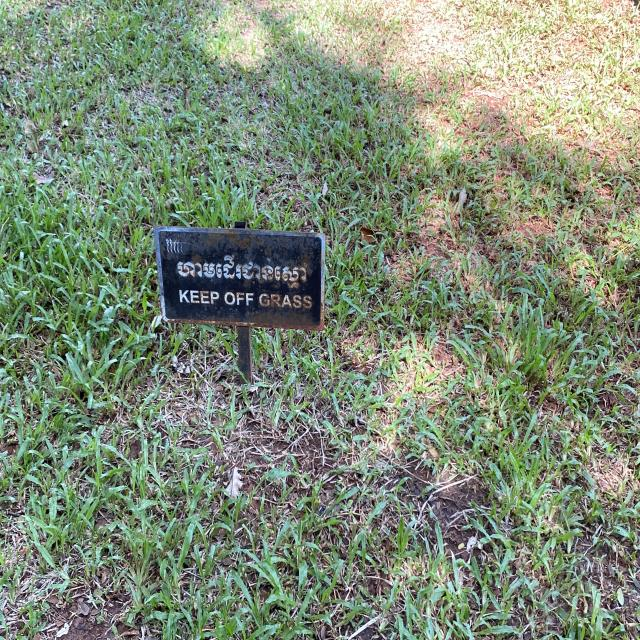Yolov11kh: (175, 251, 307, 291)
